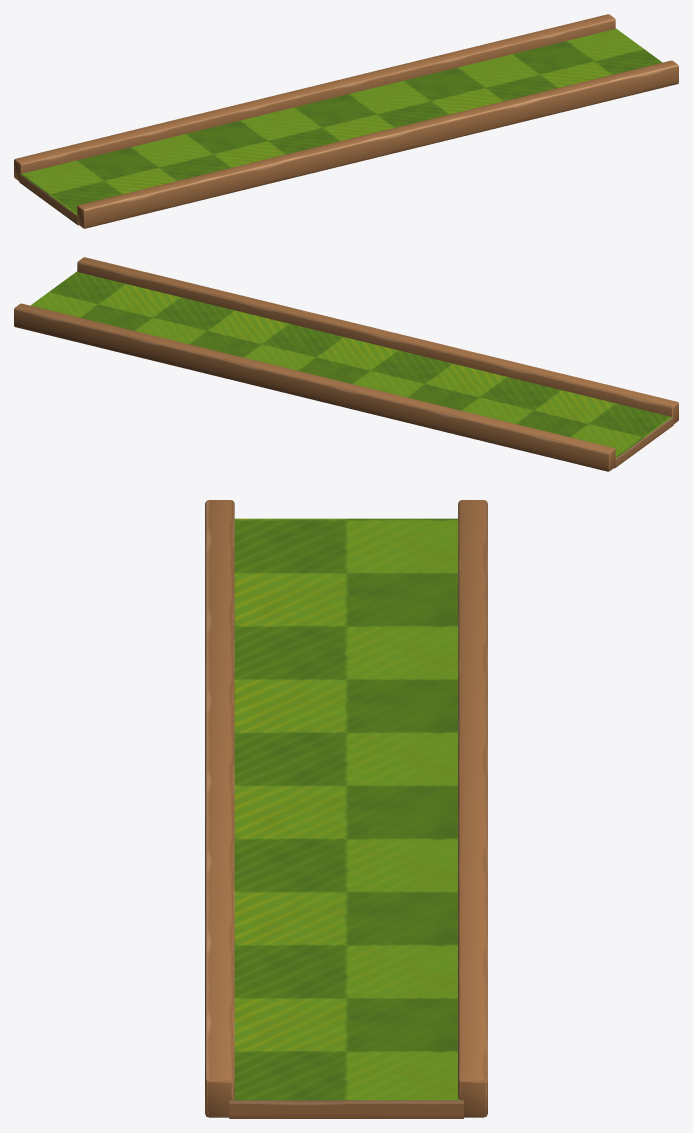
The model's file is Moving_Platform_A.gltf.
The picture shows the model from 3 angles, top to bottom: view 1: azimuth 30°, elevation 25°; view 2: azimuth 150°, elevation 25°; view 3: azimuth 270°, elevation 25°; orthographic projection. The views are drawn at different scales.
Parts seen in each view (by area): view 1: Moving_Platform-convcol.006, Moving_Platform-convcol.018, Moving_Platform-convcol.016; view 2: Moving_Platform-convcol.006, Moving_Platform-convcol.016, Moving_Platform-convcol.018; view 3: Moving_Platform-convcol.006, Moving_Platform-convcol.018, Moving_Platform-convcol.016.
Boxes of the visible parts, x1,y1,x2,y2 form: Moving_Platform-convcol.006: [19, 28, 662, 225]; Moving_Platform-convcol.018: [77, 60, 678, 228]; Moving_Platform-convcol.016: [14, 14, 615, 180]; Moving_Platform-convcol.006: [30, 271, 673, 468]; Moving_Platform-convcol.016: [14, 303, 615, 471]; Moving_Platform-convcol.018: [77, 257, 678, 423]; Moving_Platform-convcol.006: [229, 518, 463, 1118]; Moving_Platform-convcol.018: [205, 500, 234, 1117]; Moving_Platform-convcol.016: [458, 500, 487, 1117].
Size of the model in its own units: 15.88 by 0.4958 by 3.26.
2 materials, 2 textured.
